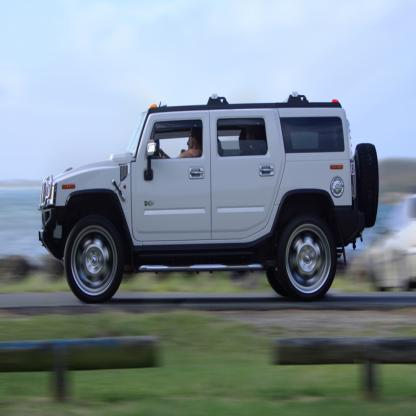Car: (38, 93, 380, 304)
